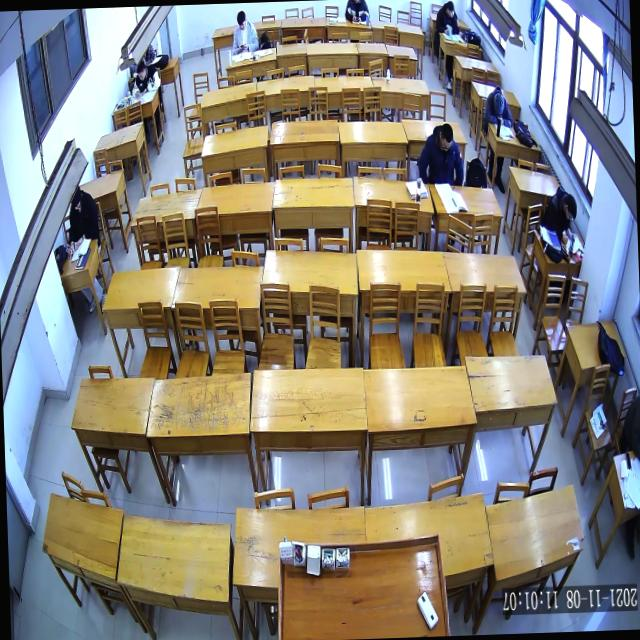bow: (482, 83, 513, 129)
down: (436, 121, 454, 154), (562, 192, 578, 223), (69, 185, 83, 212), (235, 9, 248, 32), (135, 59, 147, 82), (445, 1, 456, 20)
sit: (416, 120, 464, 189), (63, 182, 100, 256), (540, 183, 579, 247), (230, 8, 260, 56), (130, 58, 162, 100), (434, 0, 460, 35)
